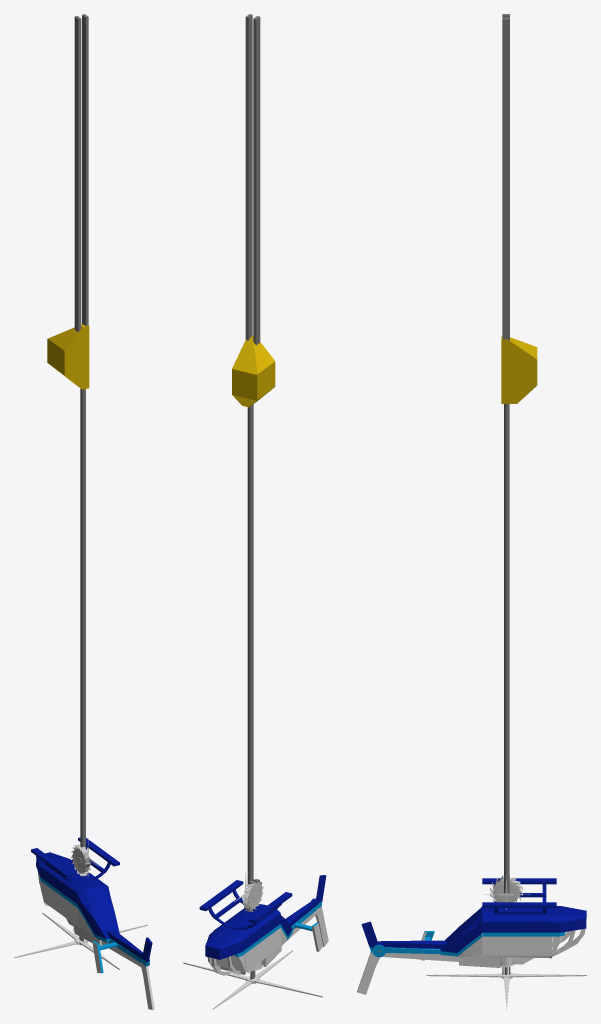
Rendered from chopper.obj.
3 renders of one model, left to right at view 1: azimuth 30°, elevation 25°; view 2: azimuth 150°, elevation 25°; view 3: azimuth 270°, elevation 25°, orthographic. The views are drawn at different scales.
Parts seen in each view (by area): view 1: BladeHanger_Object.53, CopperBody_Object.19, RotorBlade_Object.1, Blade01_Cylinder.001; view 2: BladeHanger_Object.53, CopperBody_Object.19, RotorBlade_Object.1, Blade01_Cylinder.001; view 3: CopperBody_Object.19, BladeHanger_Object.53, RotorBlade_Object.1, Blade01_Cylinder.001.
Part boxes in pixels (x1=…): BladeHanger_Object.53: x1=47, y1=14, x2=89, y2=848; CopperBody_Object.19: x1=31, y1=837, x2=154, y2=1009; RotorBlade_Object.1: x1=14, y1=912, x2=147, y2=969; Blade01_Cylinder.001: x1=71, y1=844, x2=91, y2=876; BladeHanger_Object.53: x1=232, y1=14, x2=275, y2=884; CopperBody_Object.19: x1=199, y1=875, x2=328, y2=979; RotorBlade_Object.1: x1=183, y1=950, x2=322, y2=1009; Blade01_Cylinder.001: x1=242, y1=878, x2=263, y2=911; CopperBody_Object.19: x1=357, y1=878, x2=586, y2=994; BladeHanger_Object.53: x1=501, y1=14, x2=537, y2=893; RotorBlade_Object.1: x1=426, y1=967, x2=586, y2=1009; Blade01_Cylinder.001: x1=490, y1=875, x2=522, y2=902.
Size of the model in its own units: 8.66 by 58.24 by 12.41.
